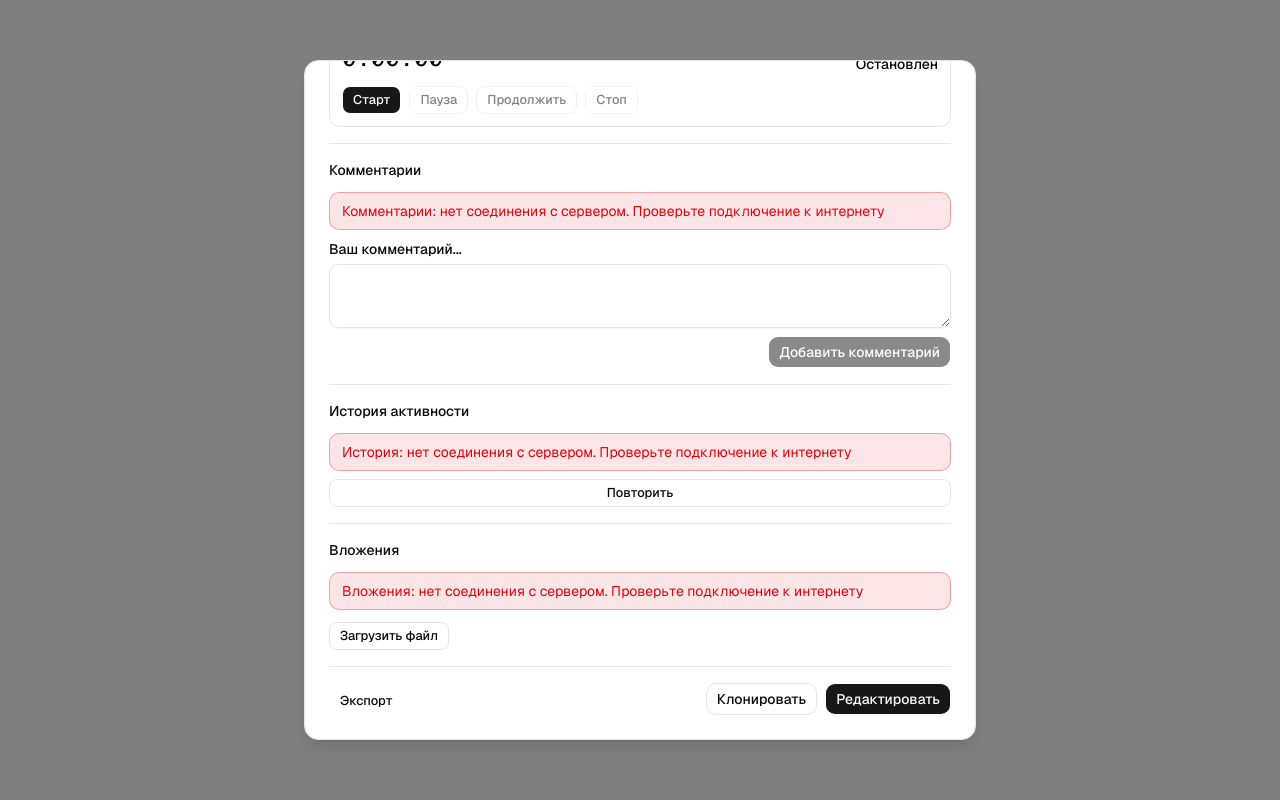
Test: TaskDetail edit mode › switches to the edit form when Edit is clicked
(page scrolled)
Step 1. Click the button with test id "task-detail-edit" → (888, 699), box [825, 683, 951, 715]
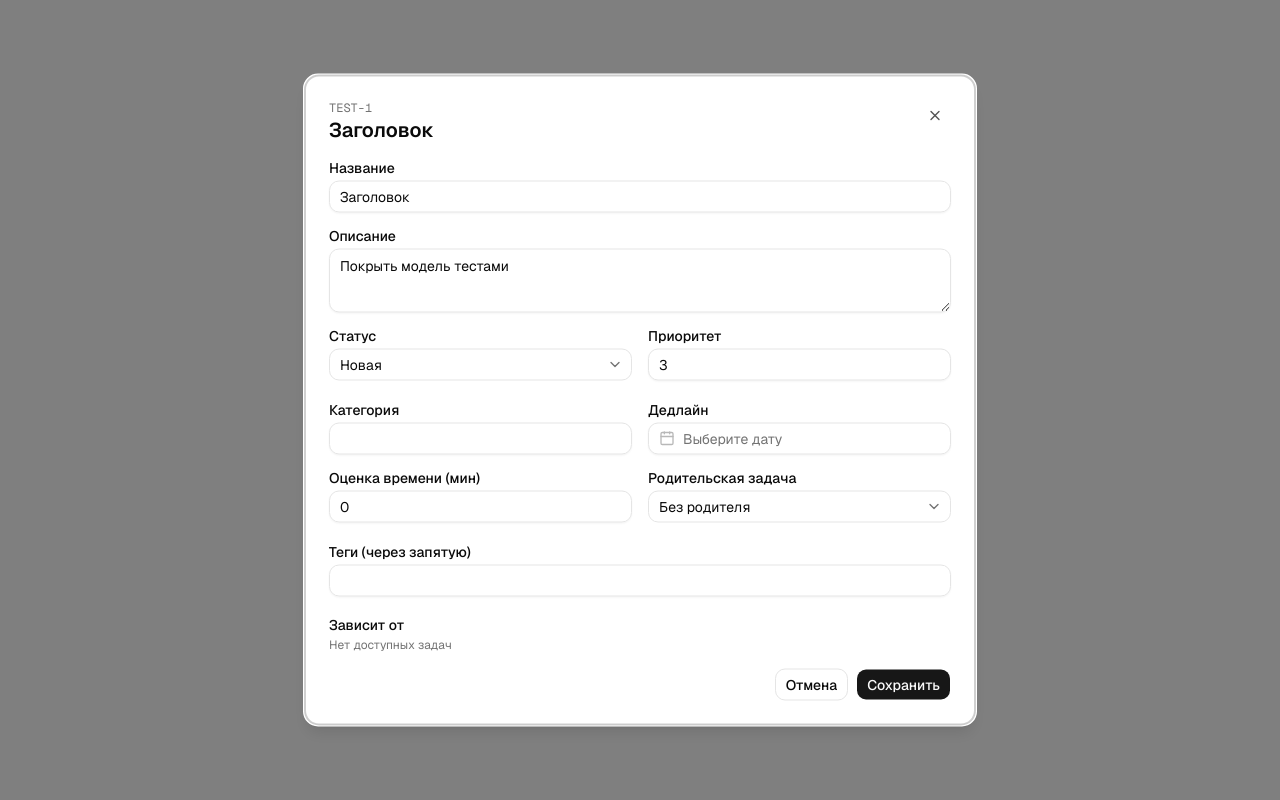
Expected: the form with test id "task-edit-form" is shown, [329, 160, 951, 700]
Expected: the field labelled "Название" holds "Заголовок", [329, 180, 951, 212]
